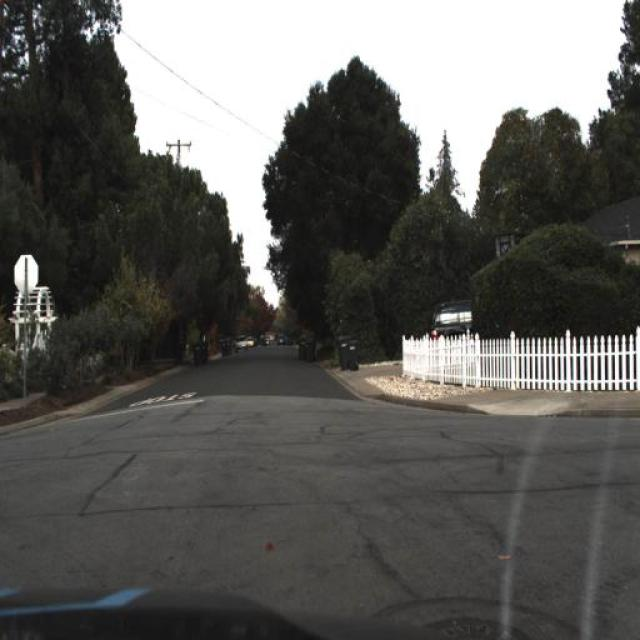car: (430, 294, 474, 344), (236, 335, 248, 353)
